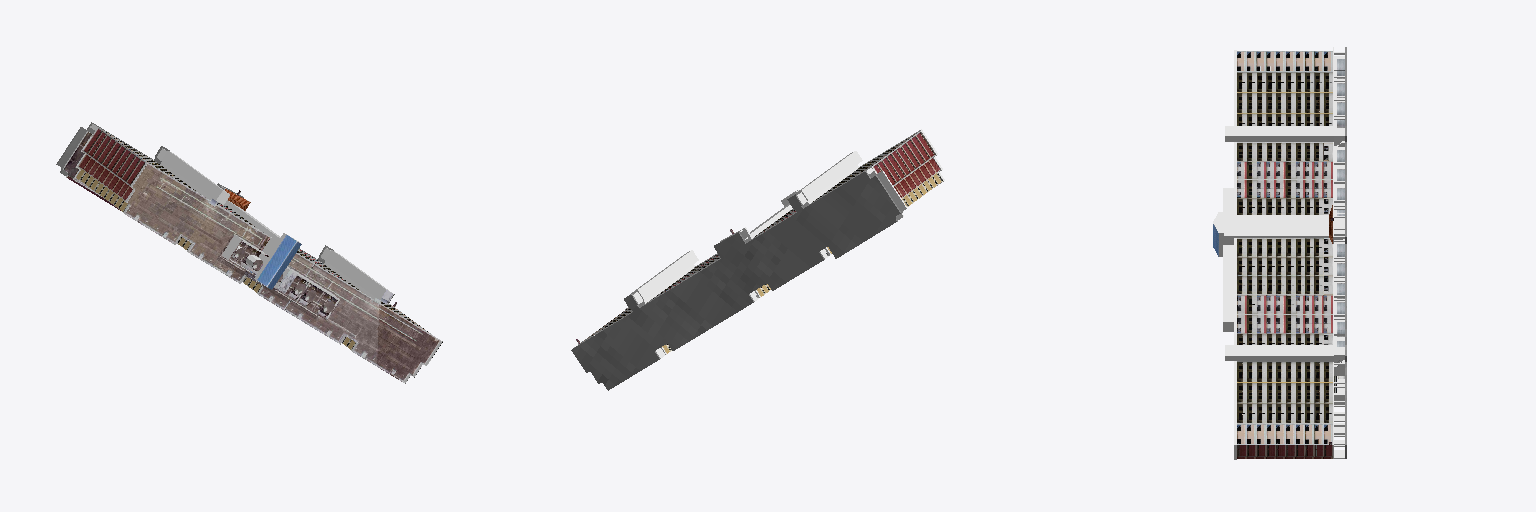
3 views of the same model, side by side, from view 1: azimuth 30°, elevation 25°; view 2: azimuth 150°, elevation 25°; view 3: azimuth 270°, elevation 25° (orthographic).
Visible parts, largest first — view 1: polygon.803; view 2: polygon.803; view 3: polygon.803.
Boxes of the visible parts, box(x1,y1,x2,y2) form: polygon.803: box(56, 122, 442, 383); polygon.803: box(571, 129, 944, 390); polygon.803: box(1213, 47, 1346, 459).
Size of the model in its own units: 108 by 88.3 by 37.87.
Materials: 1 (1 with a texture image).